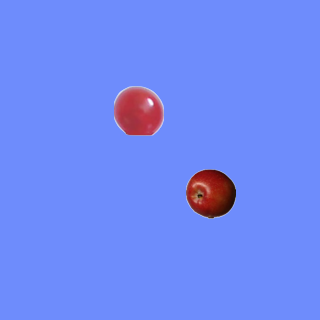Apple Braeburn: (185, 168, 235, 218)
Redcurrant: (113, 85, 163, 135)
